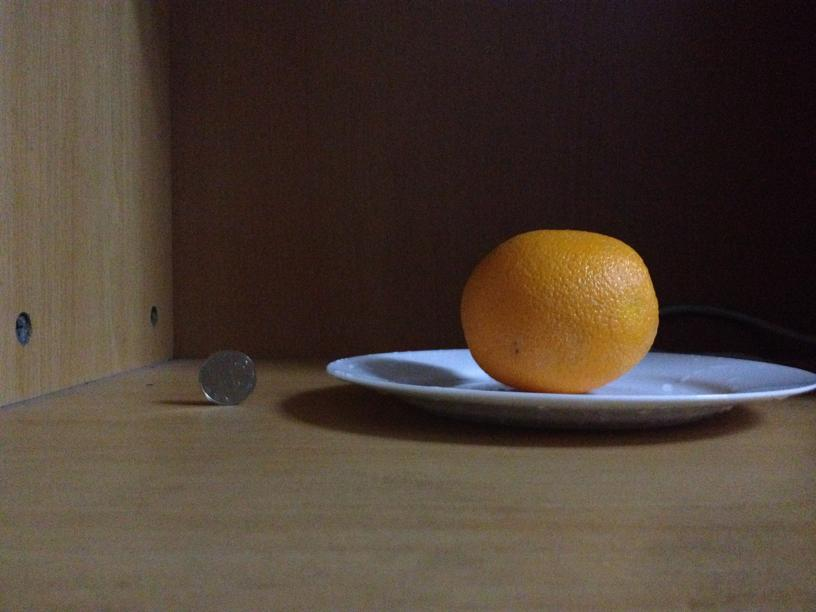coin: (196, 350, 254, 405)
orange: (458, 227, 661, 390)
